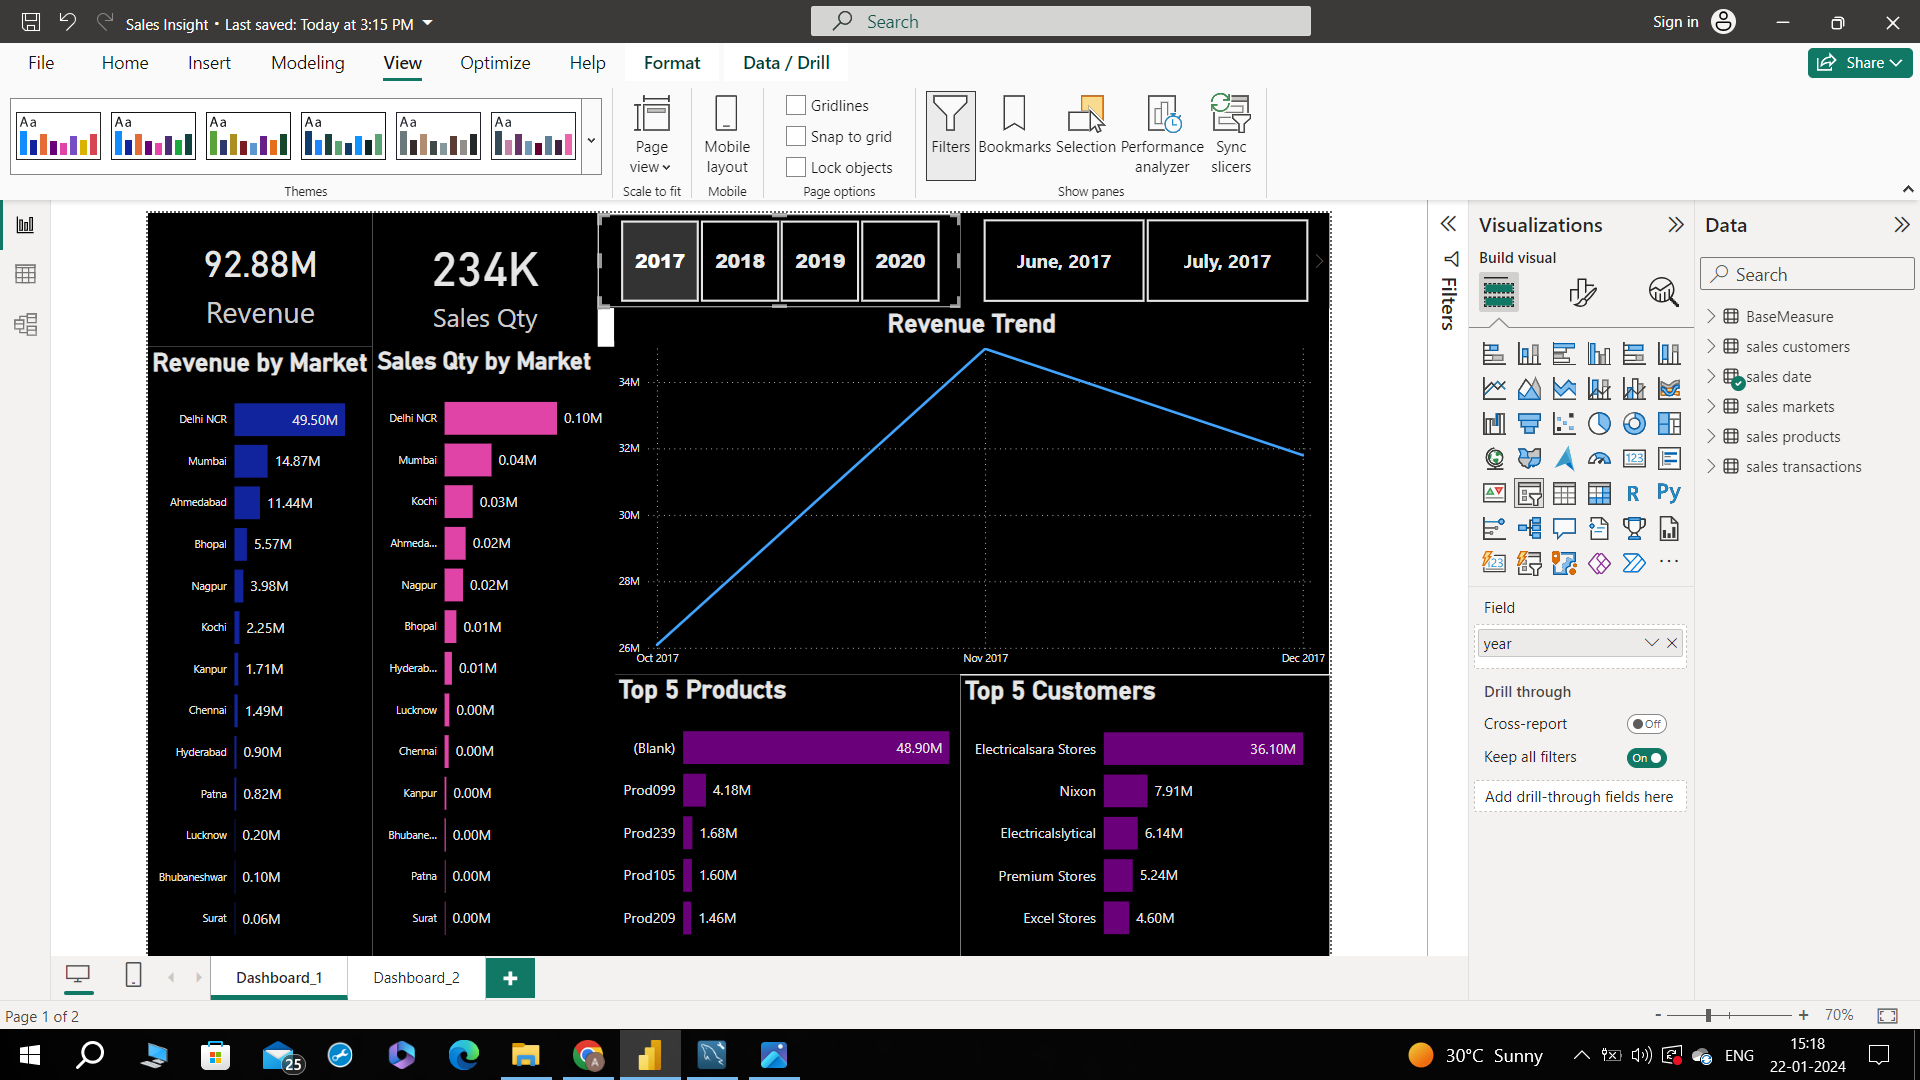

What the dashboard file says about the page in this screenshot:
{"tool":"powerbi","page":{"name":"Dashboard_1","canvas":[1350,850],"ordinal":0},"visuals":[{"type":"card","fields":{"Values":["BaseMeasure.Revenue"]},"box":[0,0,257.1,152.9],"z":0},{"type":"card","fields":{"Values":["BaseMeasure.Sales Qty"]},"box":[256.7,0,256.7,153.3],"z":1000},{"type":"barChart","title":"Revenue by Market","fields":{"Y":["BaseMeasure.Revenue"],"Category":["sales markets.markets_name"]},"box":[0,152.9,257.1,697.1],"z":2000},{"type":"barChart","title":"Sales Qty by Market","fields":{"Y":["BaseMeasure.Sales Qty"],"Category":["sales markets.markets_name"]},"box":[256.7,153.3,276.7,696.7],"z":3000},{"type":"slicer","title":"Year","fields":{"Values":["sales date.year"]},"box":[514.3,1.4,414.3,107.1],"z":4000},{"type":"slicer","fields":{"Values":["sales date.cy_date"]},"box":[928.6,0,421.4,108.6],"z":5000},{"type":"barChart","title":"Top 5 Customers","fields":{"Y":["BaseMeasure.Revenue"],"Category":["sales customers.custmer_name"]},"box":[928.6,528.6,421.4,321.4],"z":6000},{"type":"barChart","title":"Top 5 Products","fields":{"Y":["BaseMeasure.Revenue"],"Category":["sales products.product_code"]},"box":[533.3,526.7,395,323.3],"z":7000},{"type":"lineChart","title":"Revenue Trend","fields":{"Y":["BaseMeasure.Revenue"],"Category":["sales date.cy_date"]},"box":[532.9,108.6,817.1,418.6],"z":8000}]}

Visuals, with their boxes on the page's 1350x850 design canvas (x1, y1, x2, y2). These are canvas units, not pixel positions in the 1920x1080 screenshot, which may show the page scaled, cropped or inside an application window:
card - BaseMeasure.Revenue: box(0, 0, 257, 153)
card - BaseMeasure.Sales Qty: box(257, 0, 513, 153)
"Revenue by Market" barChart: box(0, 153, 257, 850)
"Sales Qty by Market" barChart: box(257, 153, 533, 850)
"Year" slicer: box(514, 1, 929, 108)
slicer - sales date.cy_date: box(929, 0, 1350, 109)
"Top 5 Customers" barChart: box(929, 529, 1350, 850)
"Top 5 Products" barChart: box(533, 527, 928, 850)
"Revenue Trend" lineChart: box(533, 109, 1350, 527)
